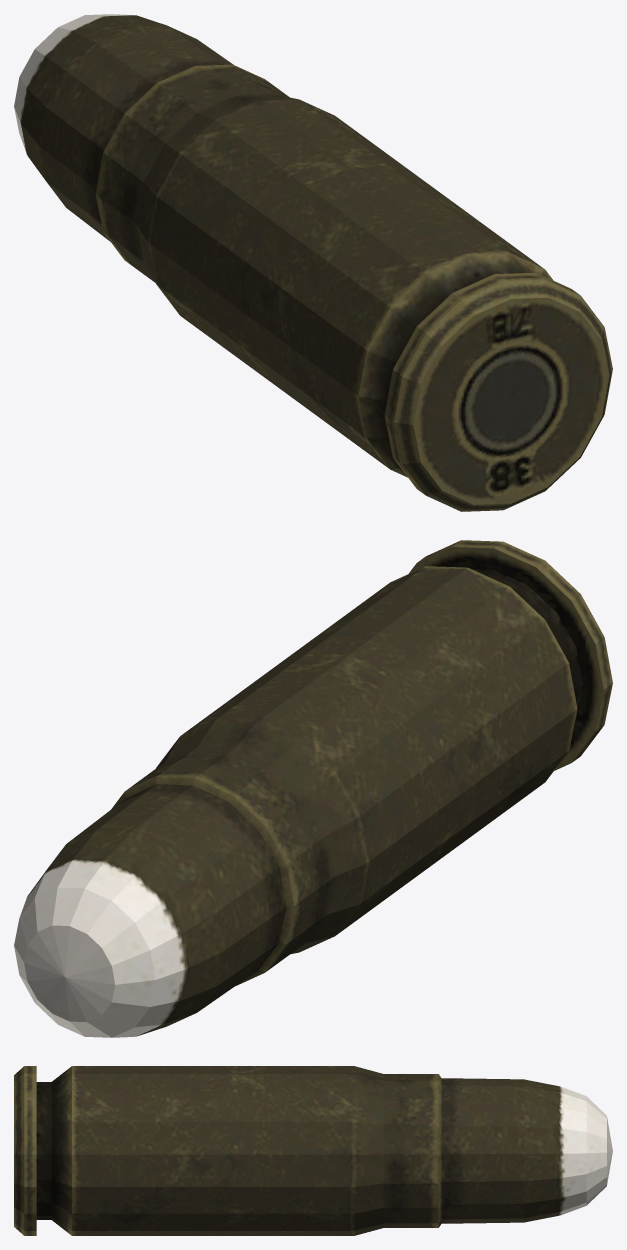
3 renders of one model, top to bottom at view 1: azimuth 30°, elevation 25°; view 2: azimuth 150°, elevation 25°; view 3: azimuth 270°, elevation 25°, orthographic. The views are drawn at different scales.
Parts seen in each view (by area): view 1: TW_573603562459776430731618_PZ_Import; view 2: TW_573603562459776430731618_PZ_Import; view 3: TW_573603562459776430731618_PZ_Import.
Boxes of the visible parts, x1=… form: TW_573603562459776430731618_PZ_Import: x1=14, y1=14, x2=612, y2=511; TW_573603562459776430731618_PZ_Import: x1=14, y1=540, x2=612, y2=1037; TW_573603562459776430731618_PZ_Import: x1=14, y1=1066, x2=612, y2=1235.
Bounding box in the file's own units: 0.00575 × 0.0203 × 0.00575.
1 material, 1 textured.
